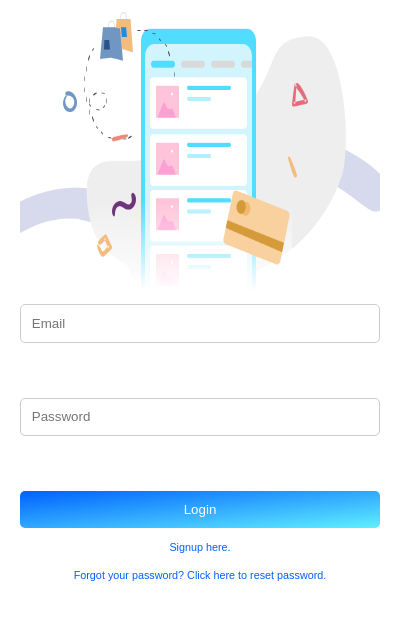
Test case: fail case › show err msg(user or password incorrect)
Click the field labelled "Email".
click(200, 323)  # box left=20, top=304, right=380, bottom=343
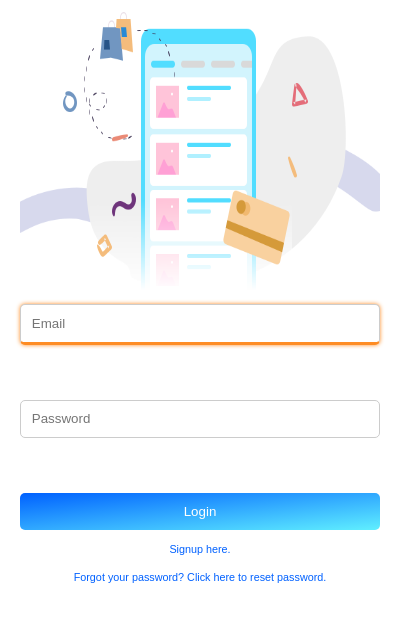
Type keys "phatminh123@gmail.com"
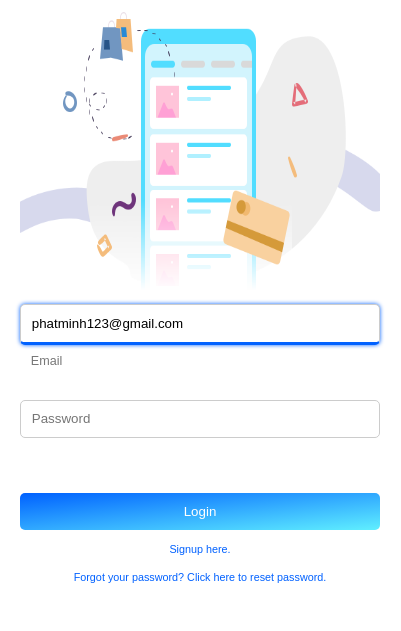
Click the password field with test id "input-password".
click(200, 419)  # box left=20, top=400, right=380, bottom=438
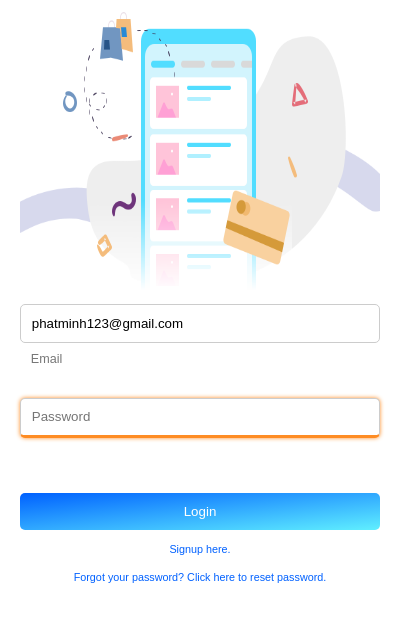
Type keys "password123"
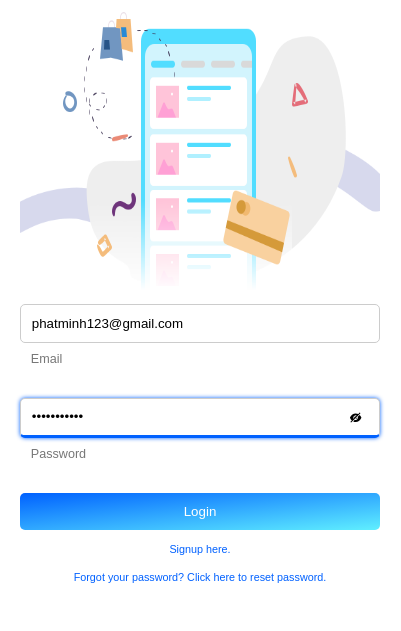
Click the button "Login".
click(200, 511)  # box left=20, top=493, right=380, bottom=530
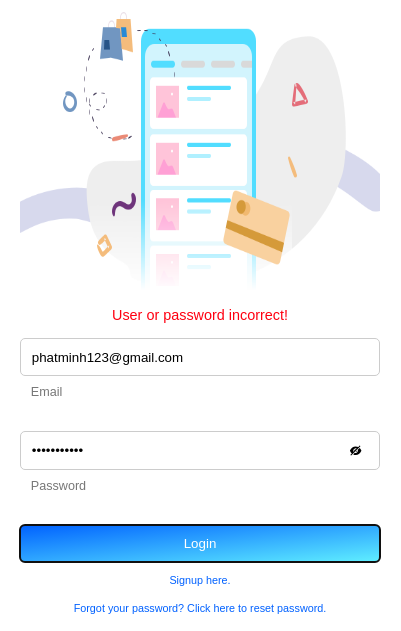
expect the text "User or password incorrect!" is shown: met, box left=112, top=307, right=288, bottom=323
